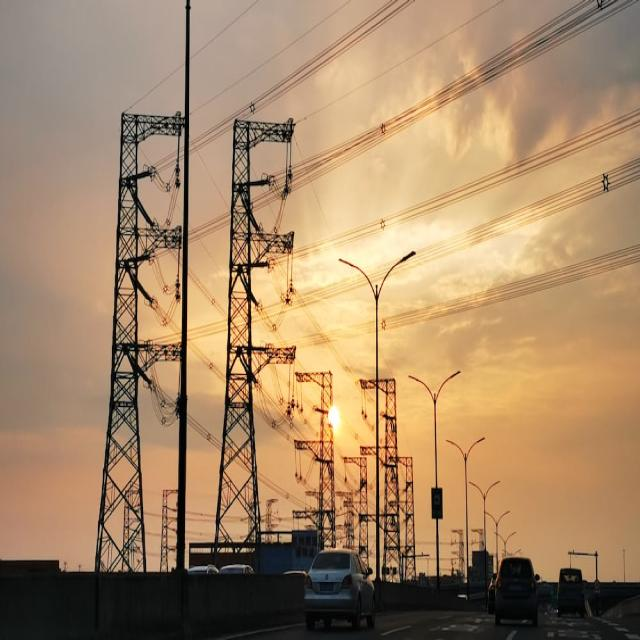transmission tower: (93, 81, 206, 558), (201, 90, 305, 522), (354, 336, 414, 575)
